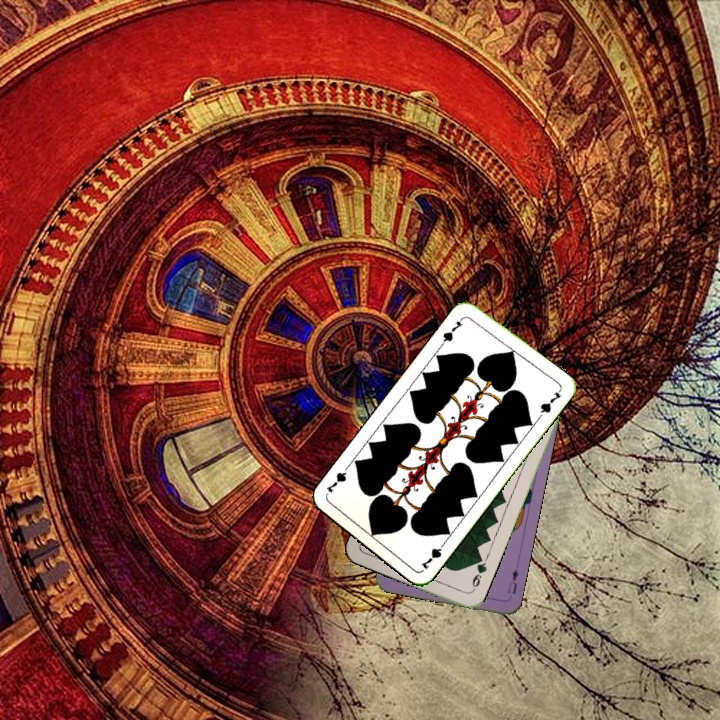EU: (503, 565, 521, 596)
G7: (416, 537, 449, 572), (437, 313, 467, 348)
G9: (467, 554, 489, 594)
